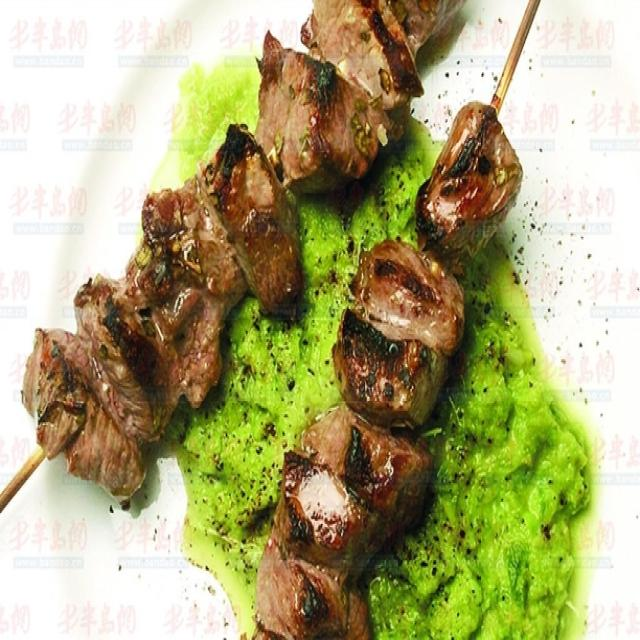烧串烤肉: (23, 20, 603, 618)
